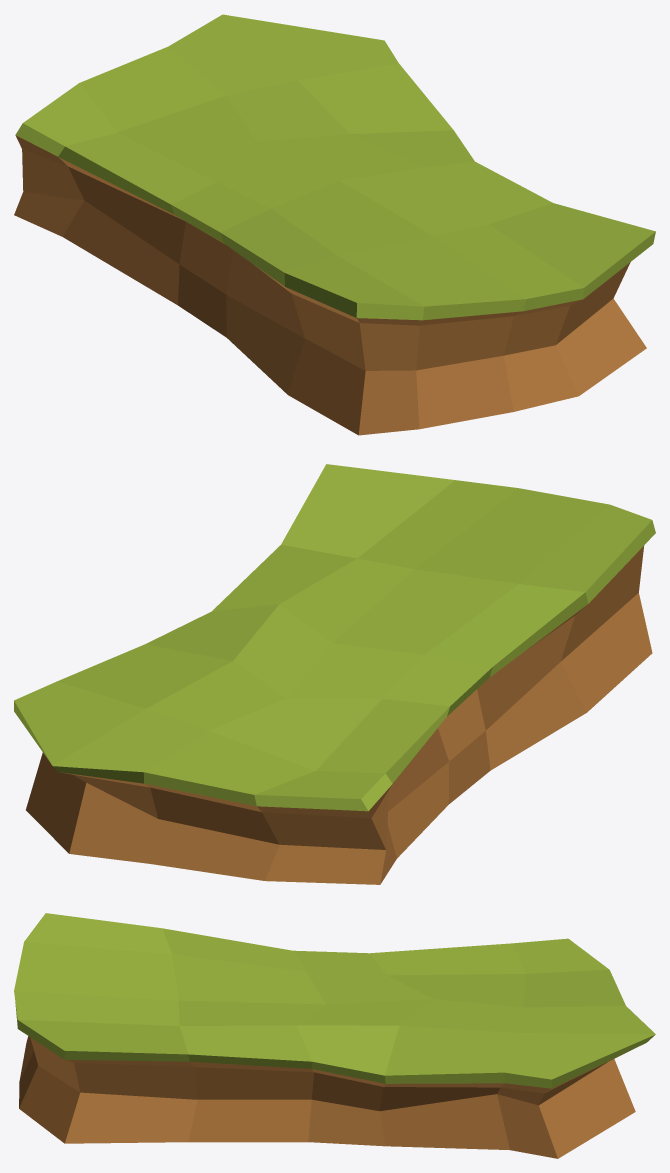
Rendered from drn_textured6.fbx.
The picture shows the model from 3 angles, top to bottom: view 1: azimuth 30°, elevation 25°; view 2: azimuth 150°, elevation 25°; view 3: azimuth 270°, elevation 25°; orthographic projection. The views are drawn at different scales.
Visible parts, largest first — view 1: JaynamLowPolyTerrain_drny_rozdelane:pCube5; view 2: JaynamLowPolyTerrain_drny_rozdelane:pCube5; view 3: JaynamLowPolyTerrain_drny_rozdelane:pCube5.
Boxes of the visible parts, left/top/right/bottom form: JaynamLowPolyTerrain_drny_rozdelane:pCube5: left=14, top=14, right=655, bottom=435; JaynamLowPolyTerrain_drny_rozdelane:pCube5: left=14, top=464, right=655, bottom=884; JaynamLowPolyTerrain_drny_rozdelane:pCube5: left=14, top=913, right=655, bottom=1158.
Size of the model in its own units: 0.5809 by 0.2203 by 1.05.
